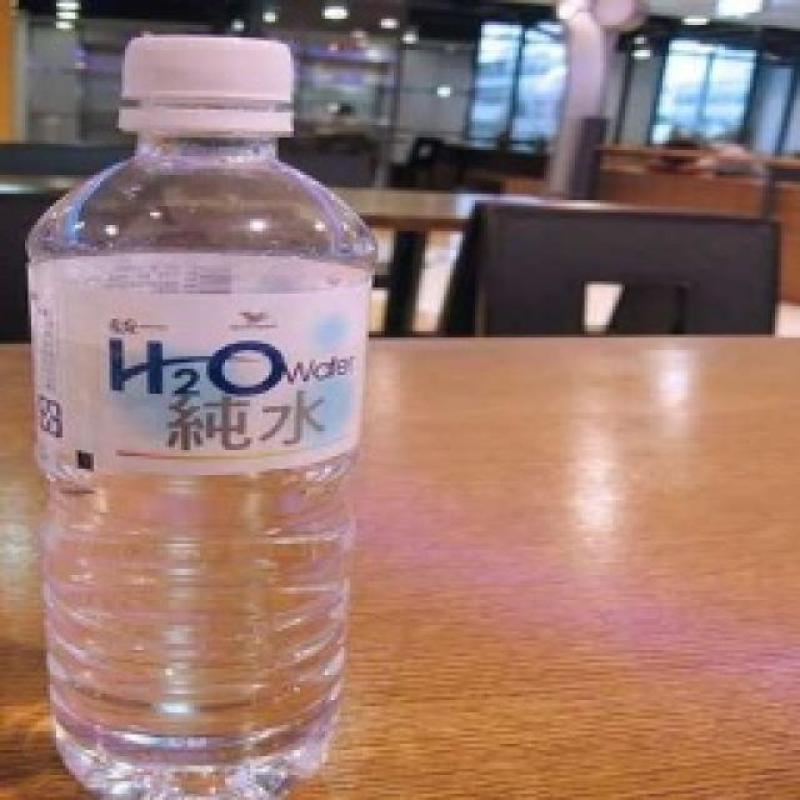botella: (32, 31, 380, 800)
